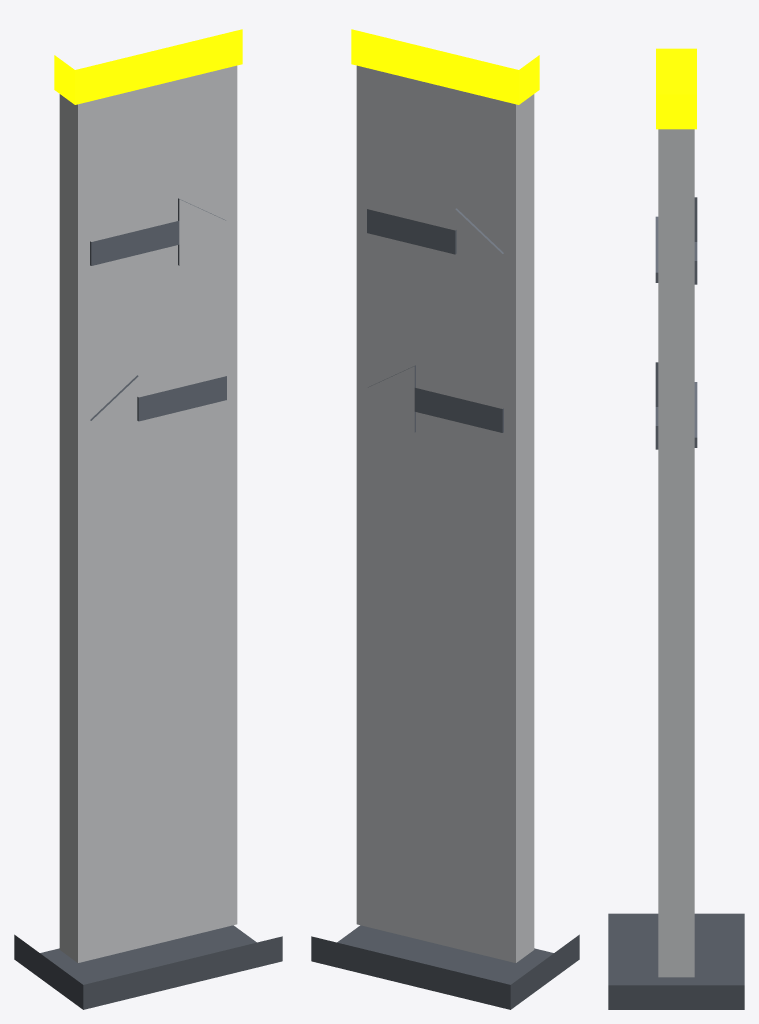
File: ext_wayfinding_totem_05.glb
3 renders of one model, left to right at view 1: azimuth 30°, elevation 25°; view 2: azimuth 150°, elevation 25°; view 3: azimuth 270°, elevation 25°, orthographic.
Parts seen in each view (by area): view 1: Blade, Foot, Top_Light, Arrows; view 2: Blade, Foot, Top_Light, Arrows; view 3: Blade, Foot, Top_Light, Arrows.
Boxes of the visible parts, x1,y1,x2,y2 form: Blade: (59,65,237,962); Foot: (14,925,282,1009); Top_Light: (54,29,242,104); Arrows: (90,198,226,421); Blade: (356,65,534,962); Foot: (311,925,579,1009); Top_Light: (351,29,539,104); Arrows: (367,208,503,432); Blade: (658,129,694,977); Foot: (608,913,744,1009); Top_Light: (656,48,696,129); Arrows: (655,197,697,449).
Bounding box in the file's own units: 0.5 × 2.2 × 0.3.
